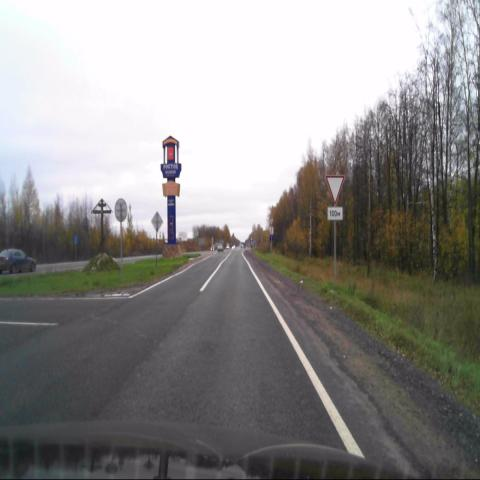8_1_1: (327, 206, 343, 220)
